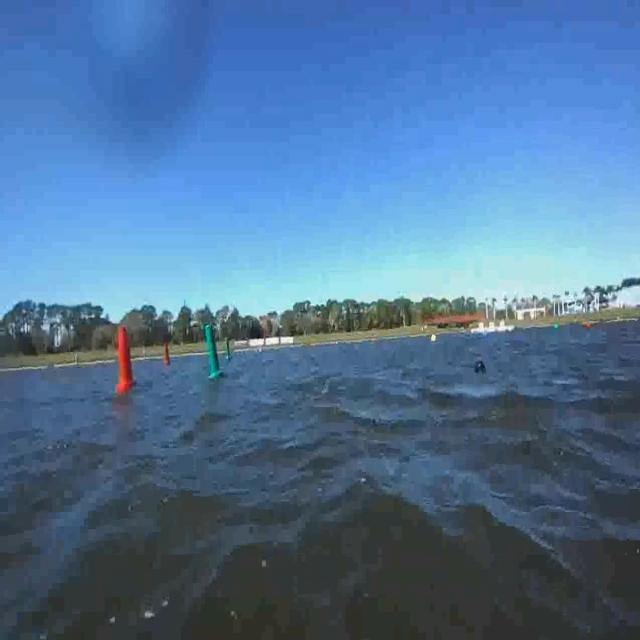black-buoy: (476, 359, 487, 374)
green-buoy: (555, 322, 560, 330)
green-column-buoy: (203, 326, 224, 380), (224, 336, 231, 361)
red-column-buoy: (115, 328, 135, 392), (162, 342, 170, 365)
yellow-buoy: (430, 334, 437, 344)
